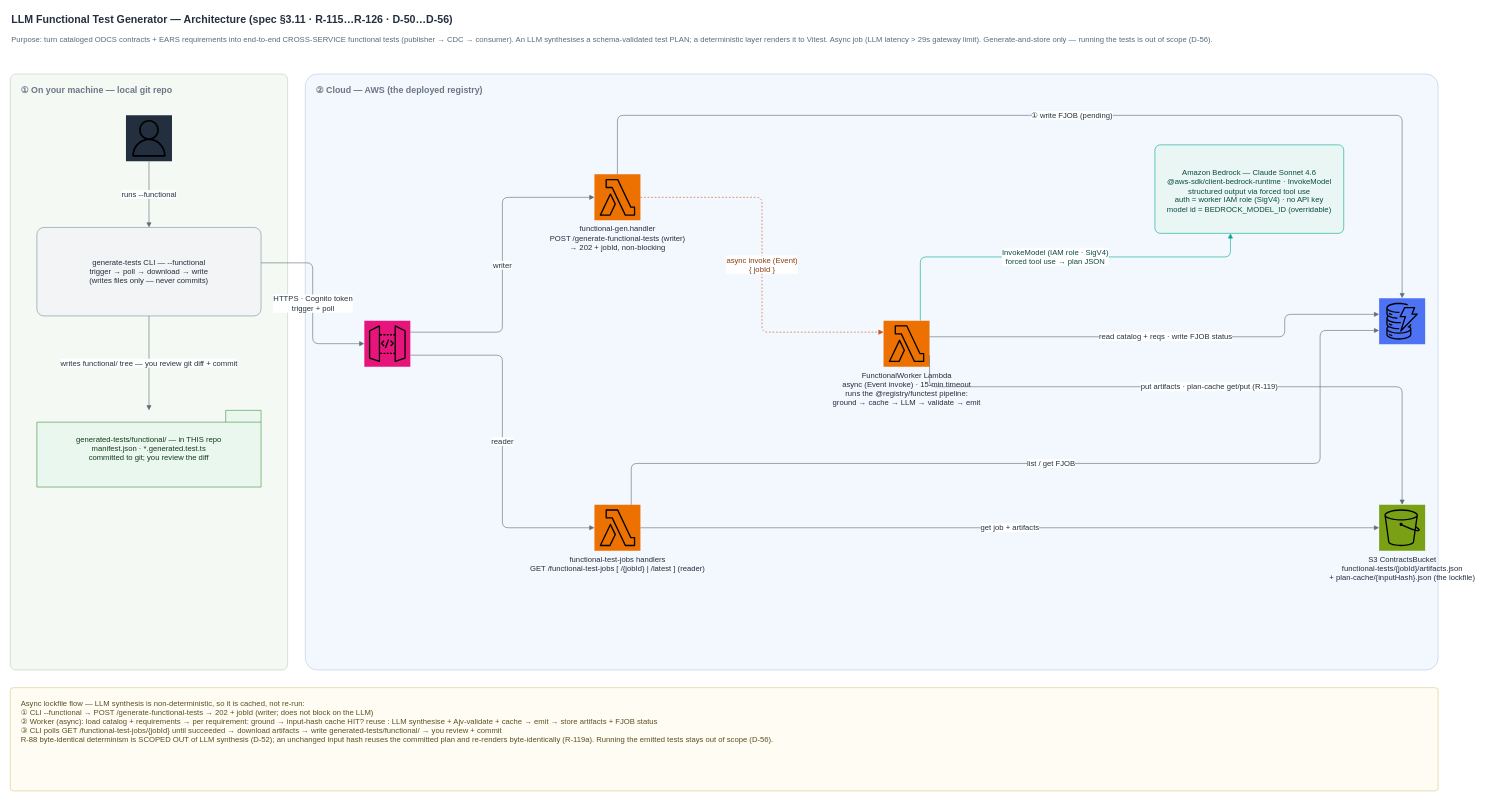
Some shapes in this 1485 by 801 pixel diagram are drawn without their labels. The shapes that lost their labels are listed below. From the top down, each one's centre as x and y in pixels, then its label:
At (149,138): "Developer / CI triggers a run".
At (1402,321): "DynamoDB Registry catalog + REQ# requirements + FJOB#{jobId} (byKind GSI)".
At (387,343): "API Gateway HTTP API Lambda authorizer: writer vs reader token".
